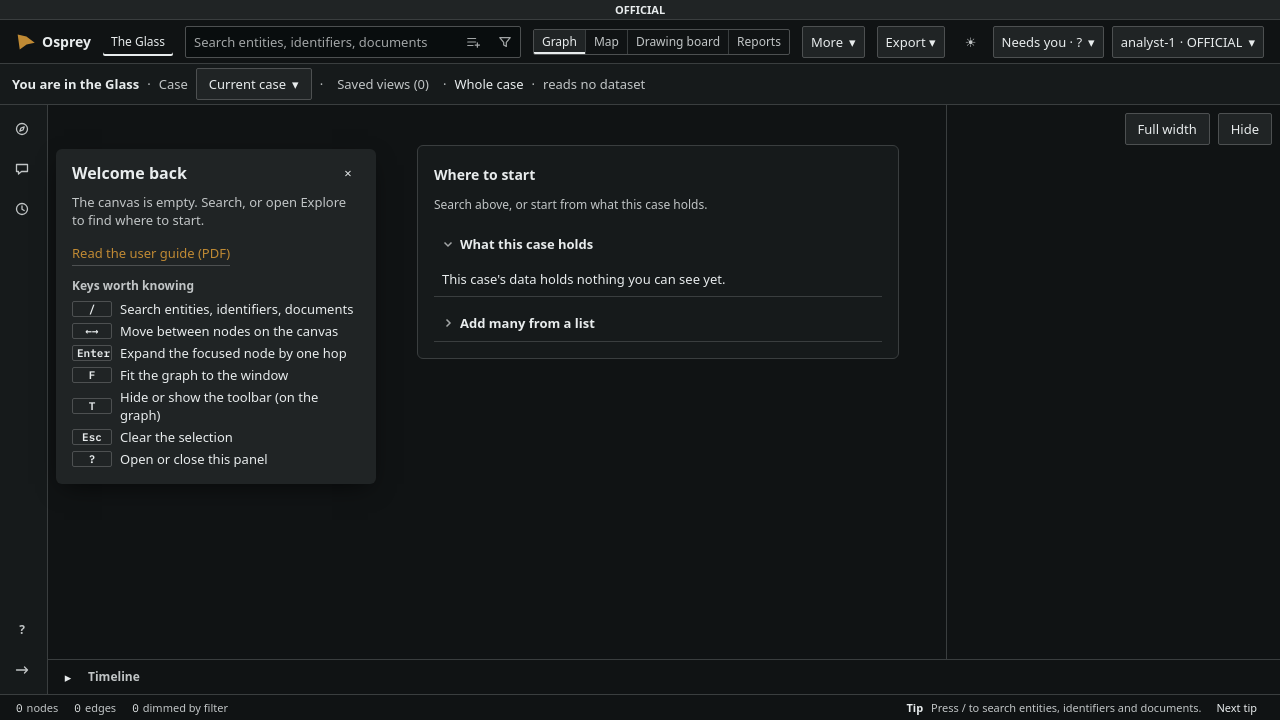
the rail's Help over every view the rail reaches › in Reports, Help opens the panel and a second press closes it
The width and height of the screenshot is (1280, 720).
Expected: the navigation bar named "Workspace" is shown, [0,105,48,694]
Click the button named "Close the welcome panel".
click(348, 173)  # box [336,161,360,185]
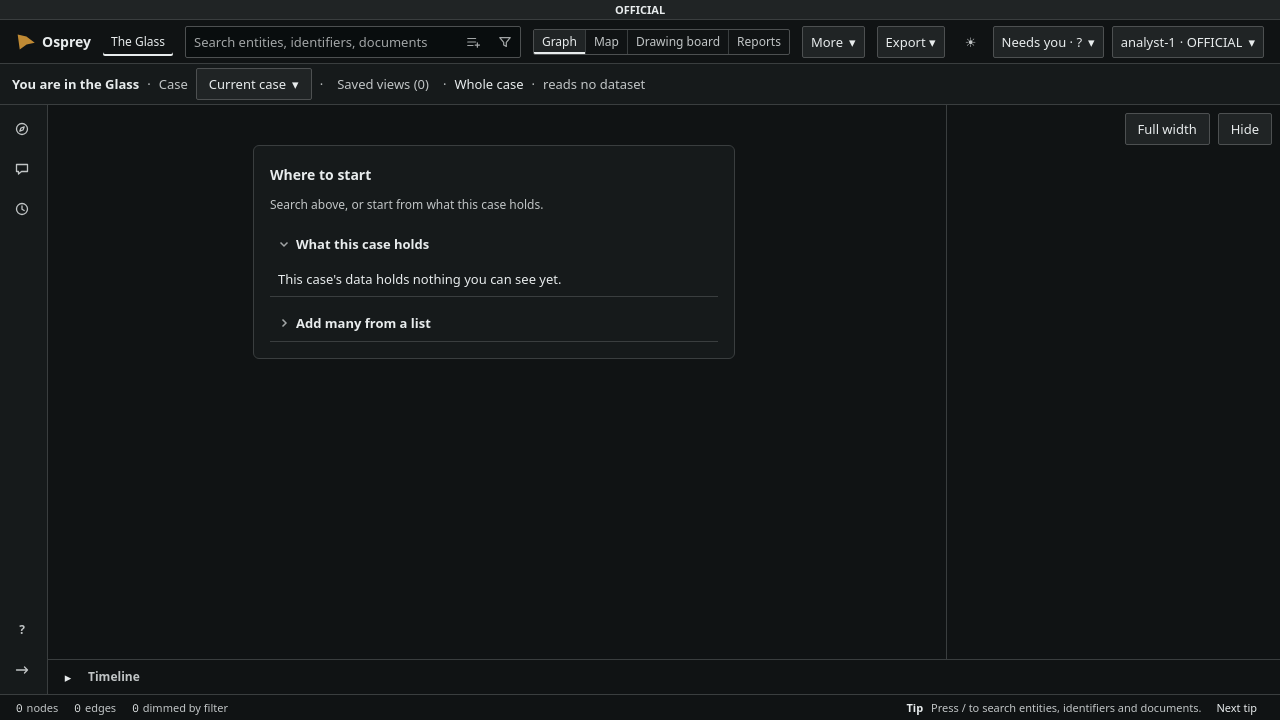
Expected: the heading "Welcome back" is gone
Click the button "Reports".
click(758, 42)  # box [728,30,789,54]
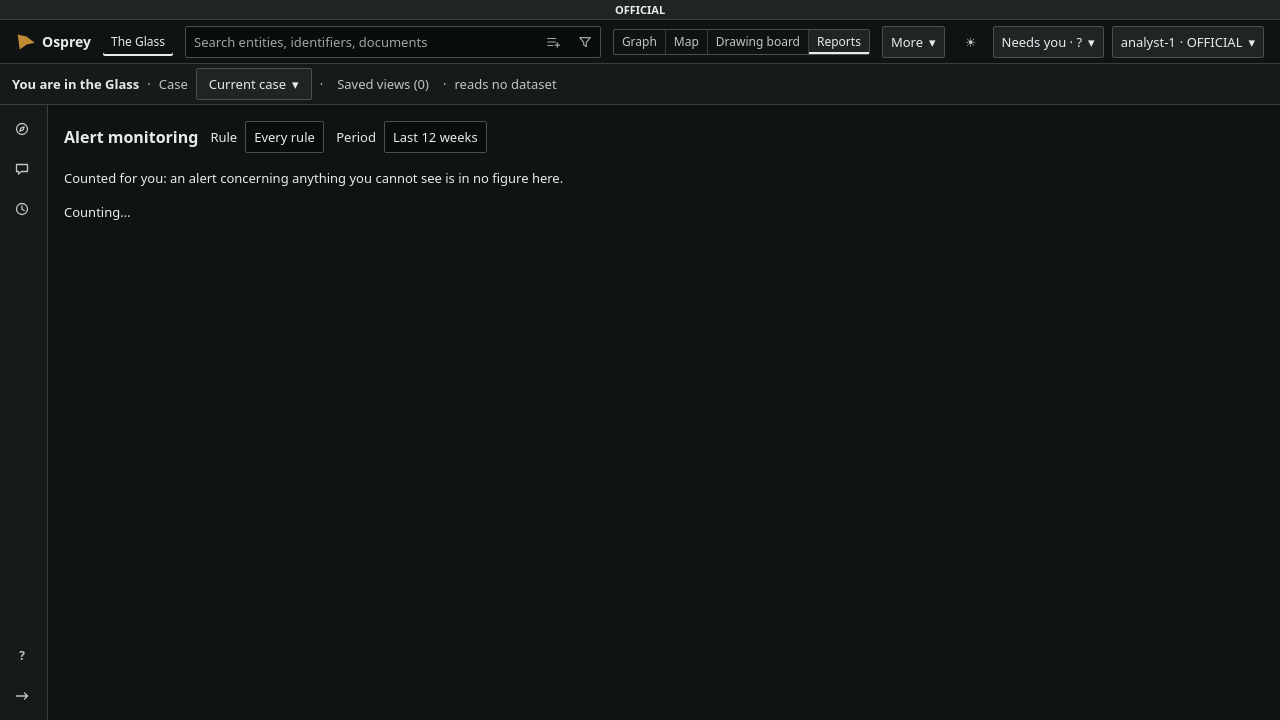
Click the button named "Help".
click(24, 656)  # box [6,638,42,674]
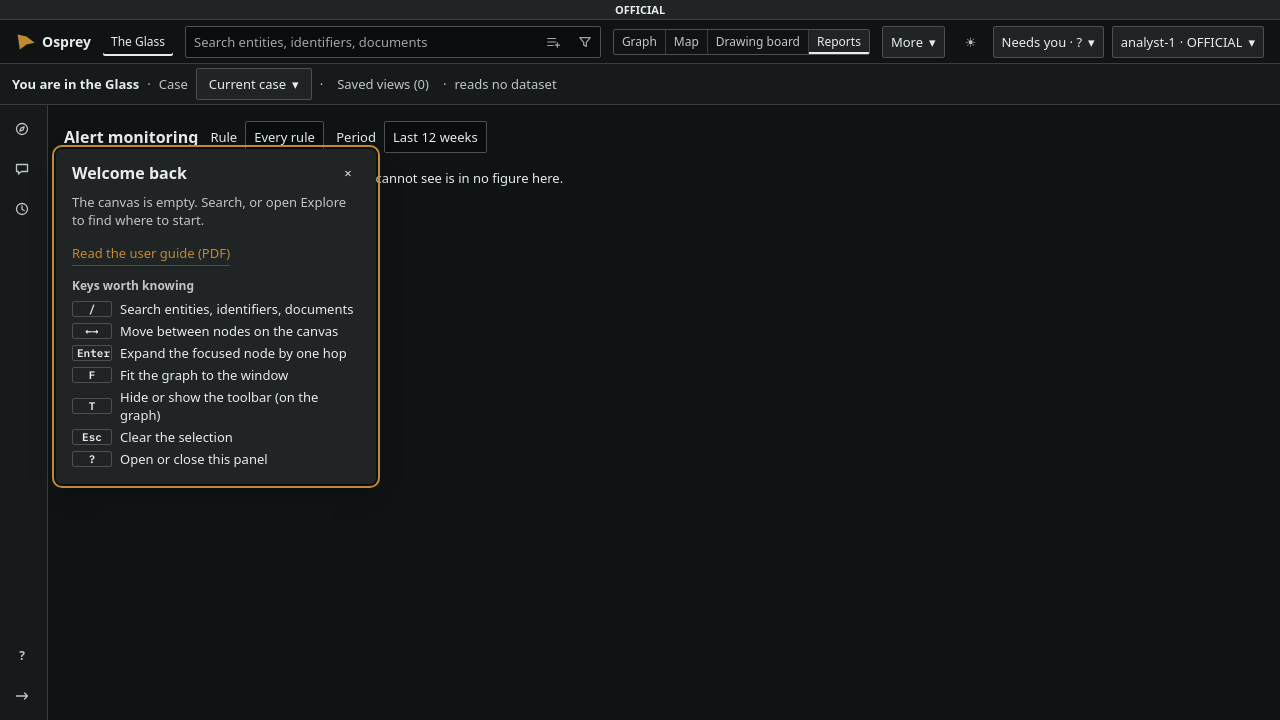
Expected: the dialog "Welcome back" is shown, [56,149,376,484]
Click the button named "Help".
click(24, 656)  # box [6,638,42,674]
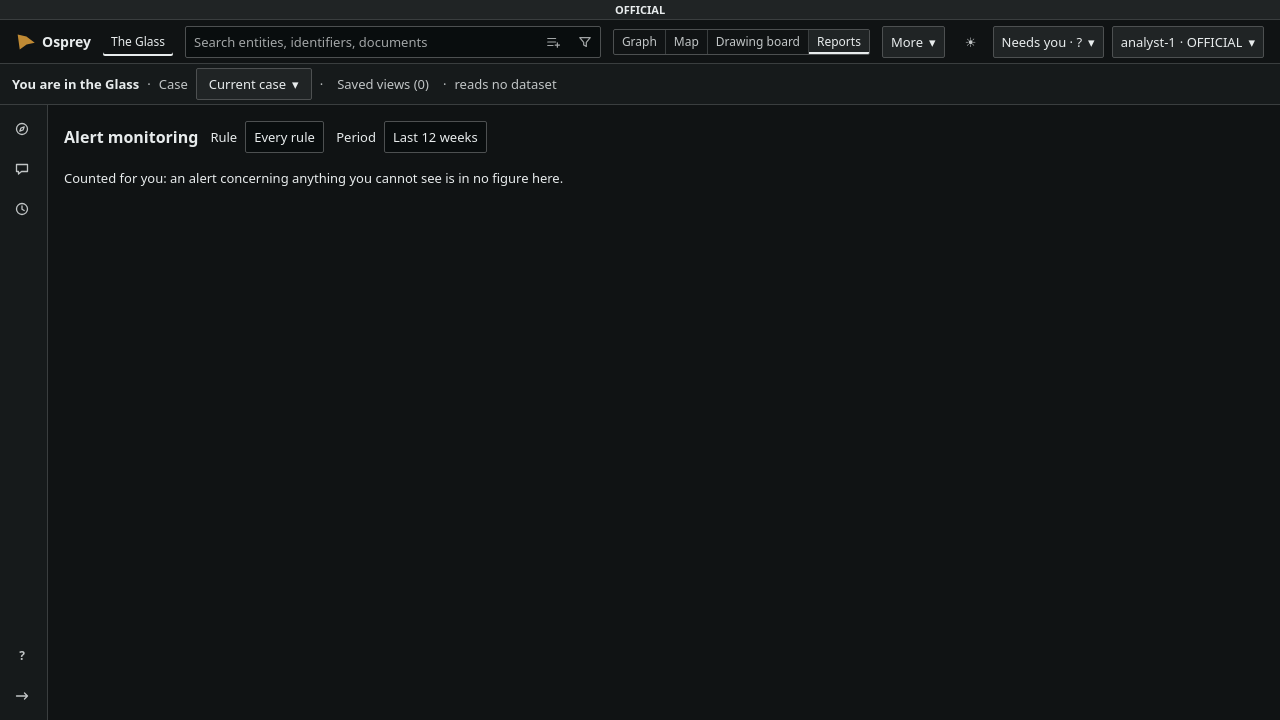
Expected: the heading "Welcome back" is gone
